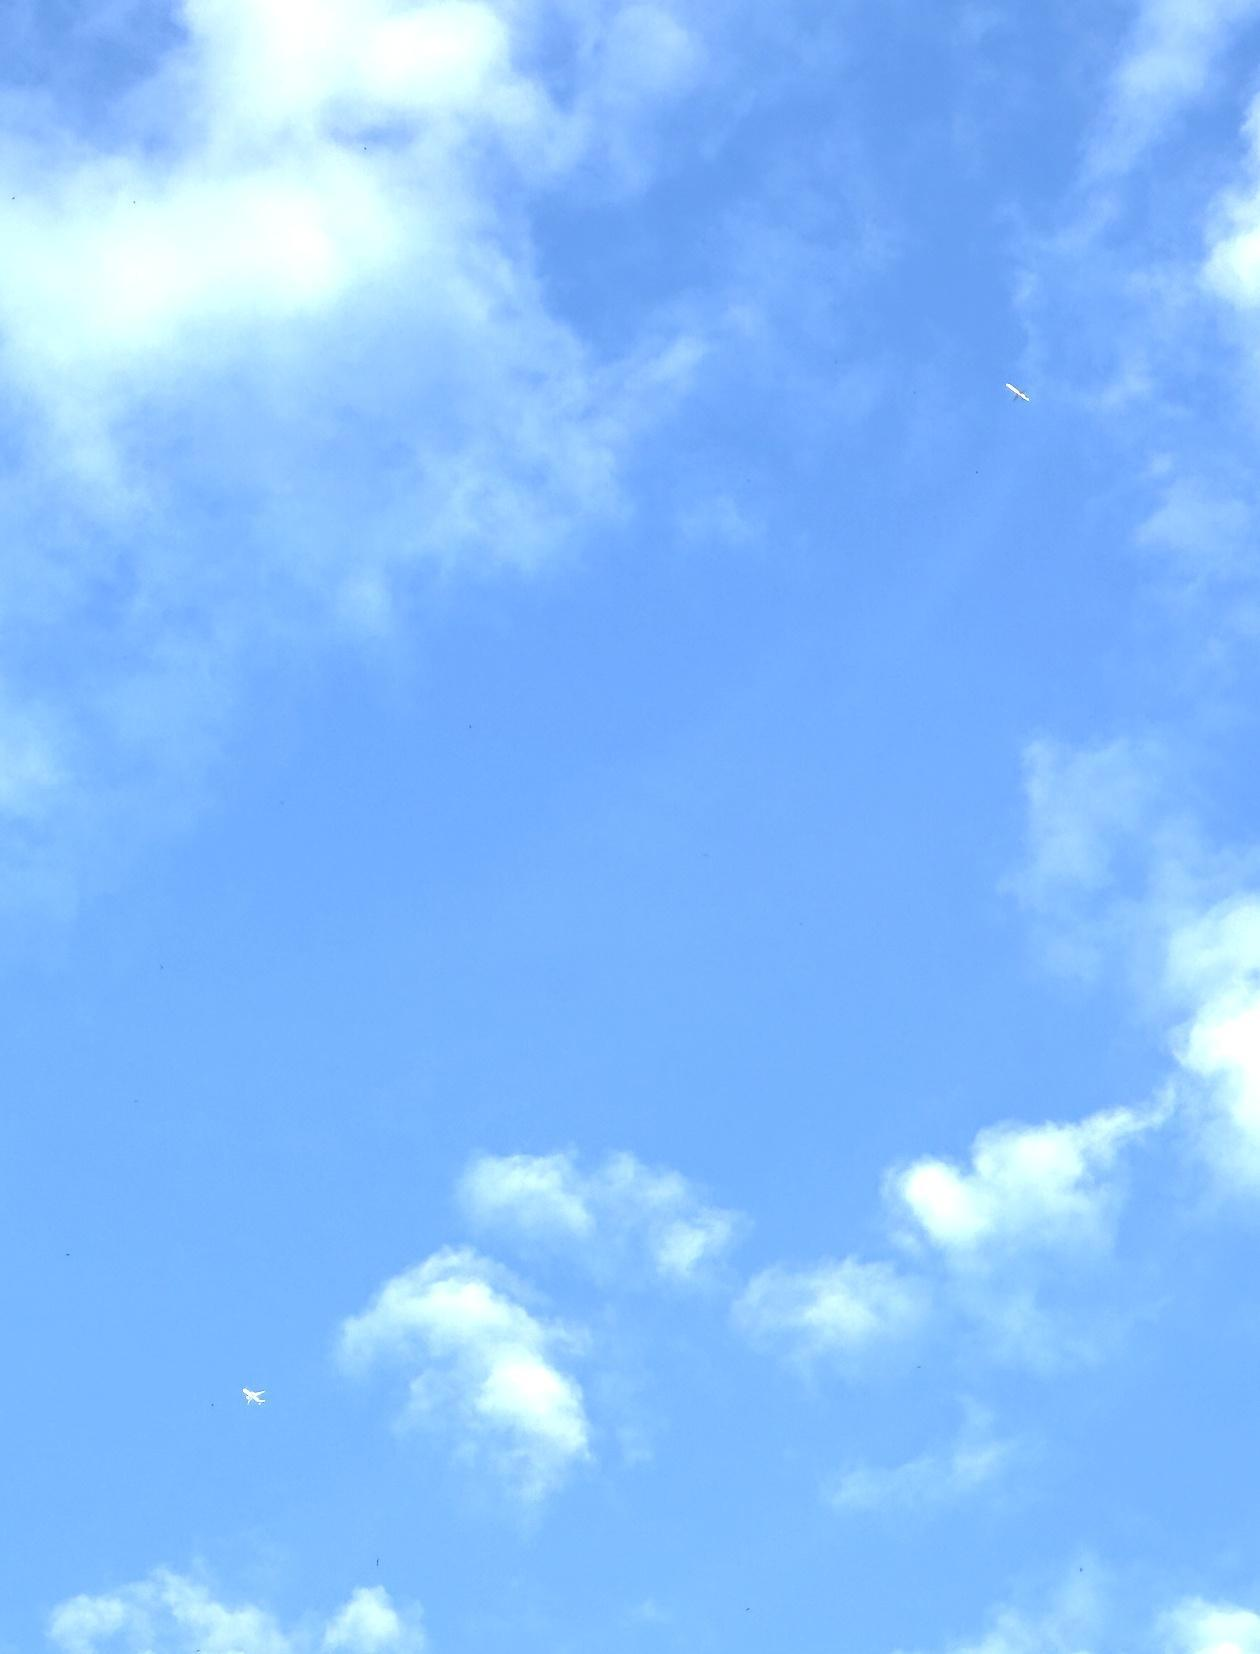Plane: (210, 1375, 291, 1433), (983, 363, 1051, 423)
